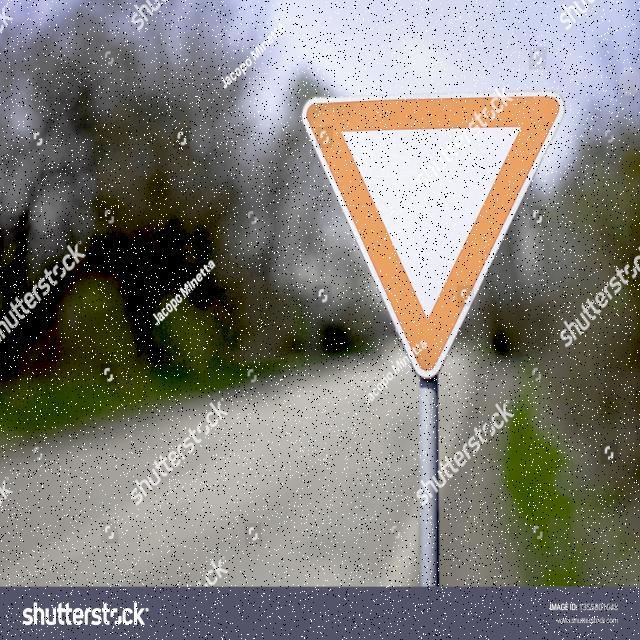Traffic sign: (299, 91, 562, 378)
